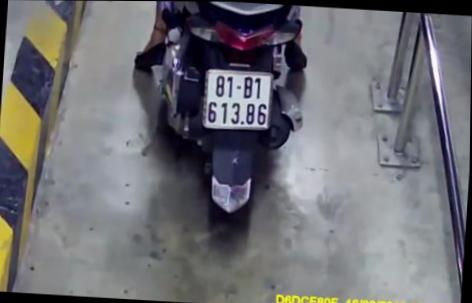LP: (202, 67, 274, 132)
